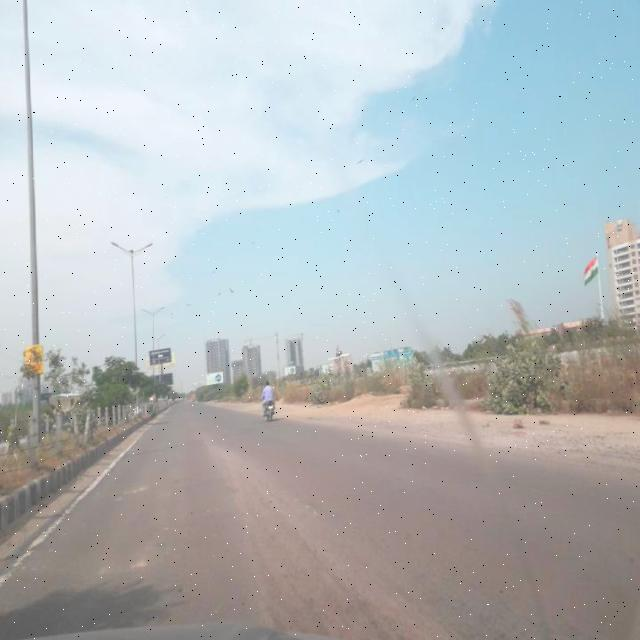D44: (11, 476, 105, 578)
